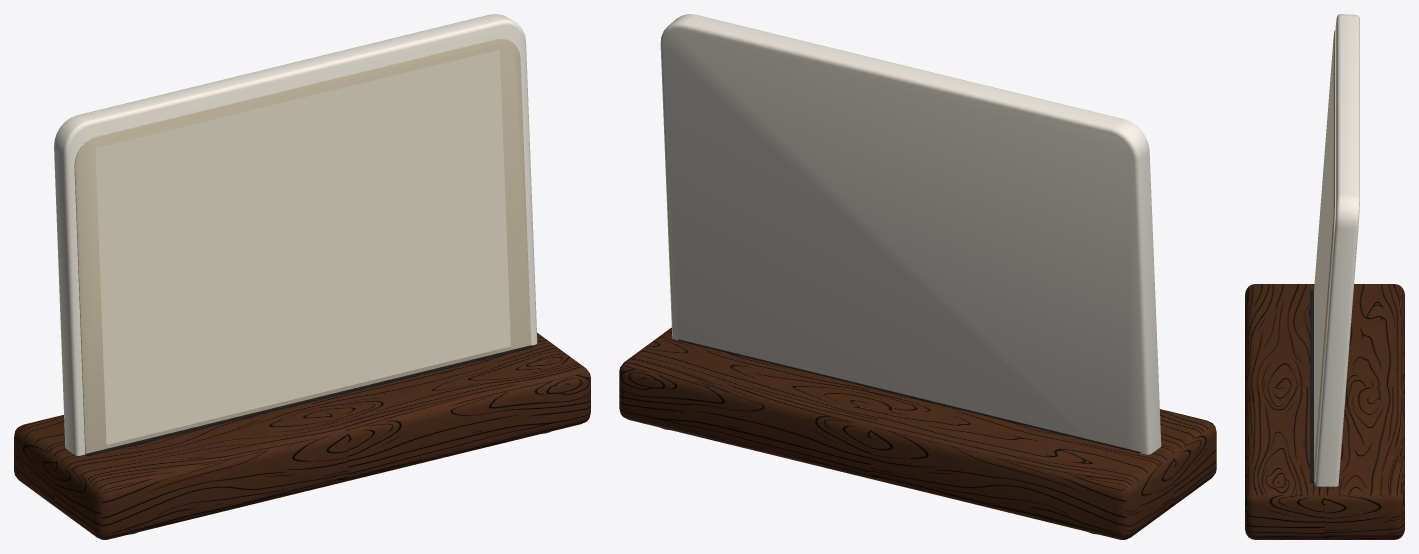
The model's file is dog-sign.glb.
The picture shows the model from 3 angles, left to right: view 1: azimuth 30°, elevation 25°; view 2: azimuth 150°, elevation 25°; view 3: azimuth 270°, elevation 25°; orthographic projection. The views are drawn at different scales.
Parts seen in each view (by area): view 1: lettering, block; view 2: block; view 3: block, lettering.
Boxes of the visible parts, x1,y1,x2,y2 form: lettering: (95, 49, 510, 444); block: (14, 14, 590, 539); block: (619, 14, 1216, 539); block: (1245, 14, 1404, 539); lettering: (1314, 42, 1333, 465).
Size of the model in its own units: 0.24 by 0.1754 by 0.076.
Materials: 6 (1 with a texture image).
